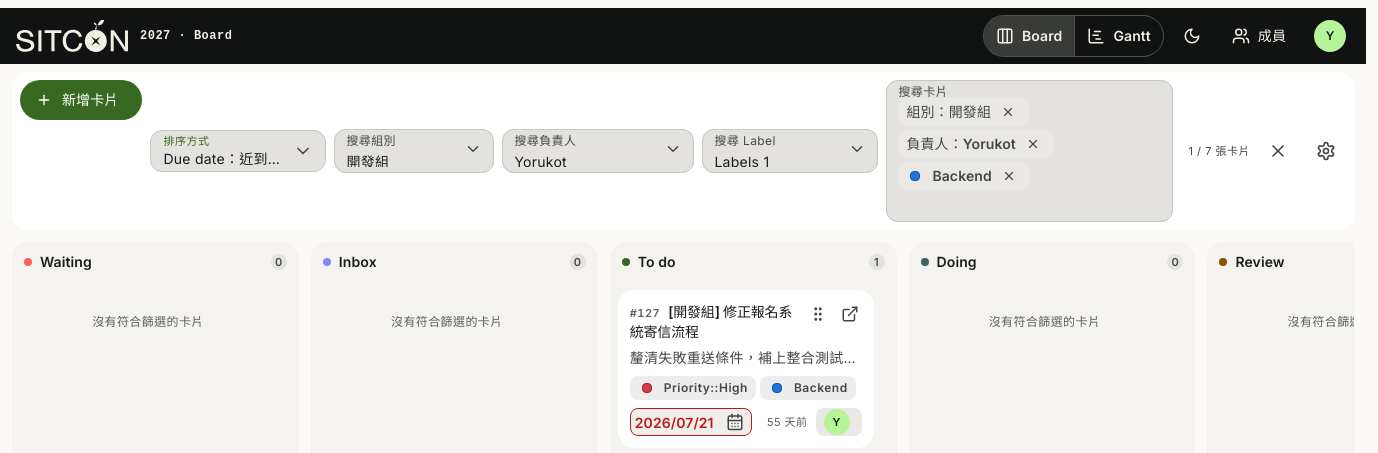
SITCON Board interactions › removes filter tokens and syncs the pickers
Expected: the button named "移除組別篩選 開發組" is shown, [999, 103, 1017, 121]
Expected: the button named "移除負責人篩選 Yorukot" is shown, [1024, 135, 1042, 153]
Click the button named "移除 Label 篩選 Backend" at (1009,176), box [1000, 167, 1018, 185]
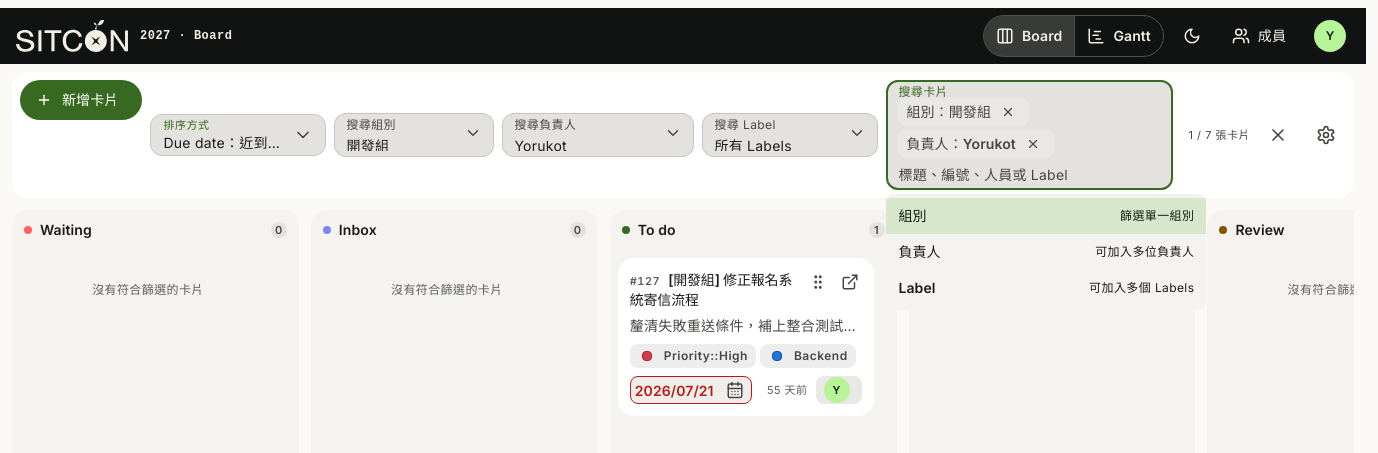
Expected: the dropdown labelled "搜尋 Label" holds "所有 Labels", [702, 119, 878, 151]
